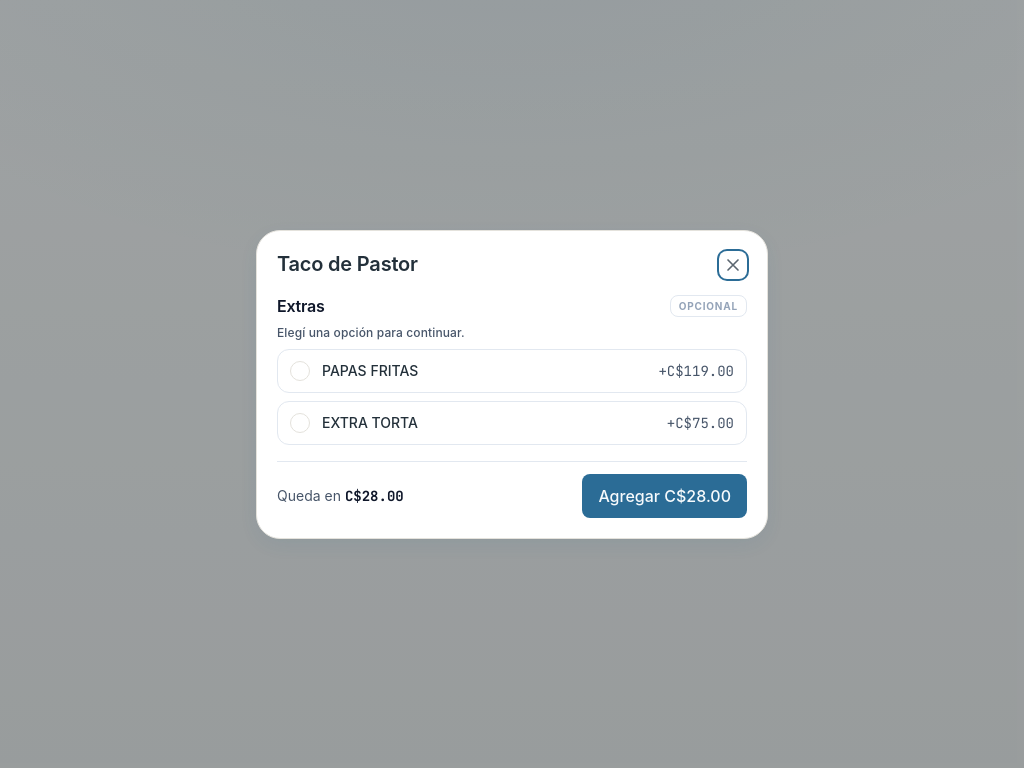
Test: PosModifierDialog › no deja elegir más opciones que el máximo del grupo
Expected: the radio button labelled "PAPAS FRITAS" is shown, [290, 360, 310, 380]
What coordinates should you click on to do the following:
click the radio button labelled "EXTRA TORTA"
I would click on:
 (300, 422)
Its box is [290, 412, 310, 432].
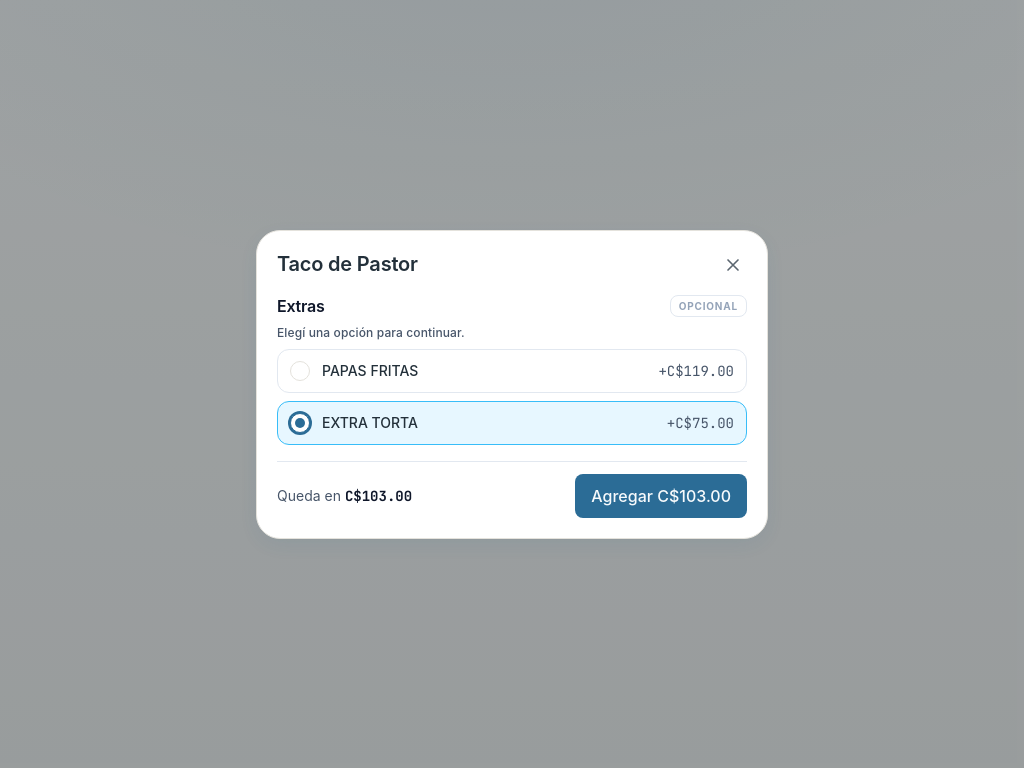
Now the button "Agregar C$103.00" is shown, box [575, 474, 747, 518]
